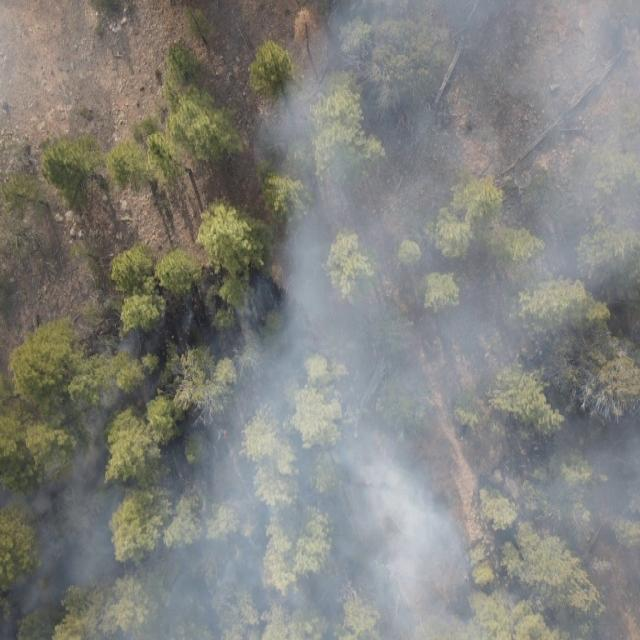fire: (219, 427, 229, 442)
smoke: (0, 311, 640, 640), (241, 100, 640, 310), (272, 0, 640, 99), (0, 0, 146, 135)
